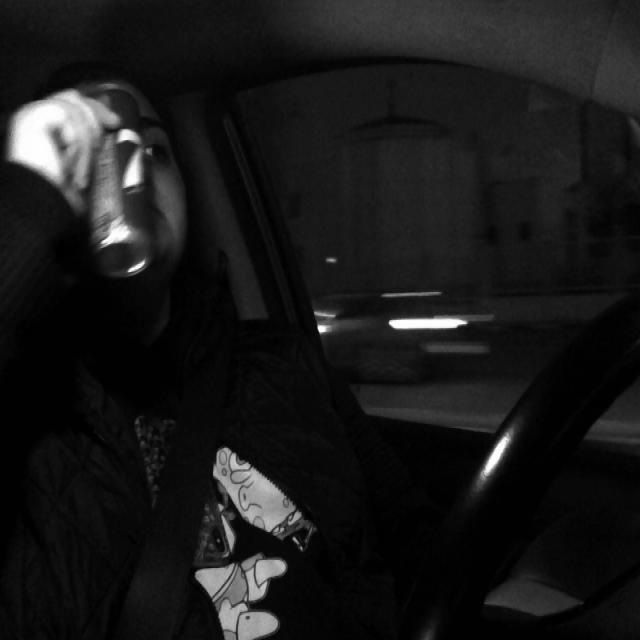Drinking: (84, 85, 158, 277)
